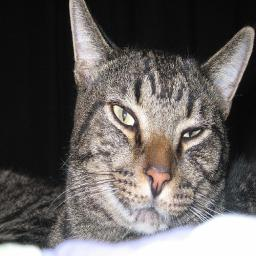catnose: (146, 168, 171, 198)
